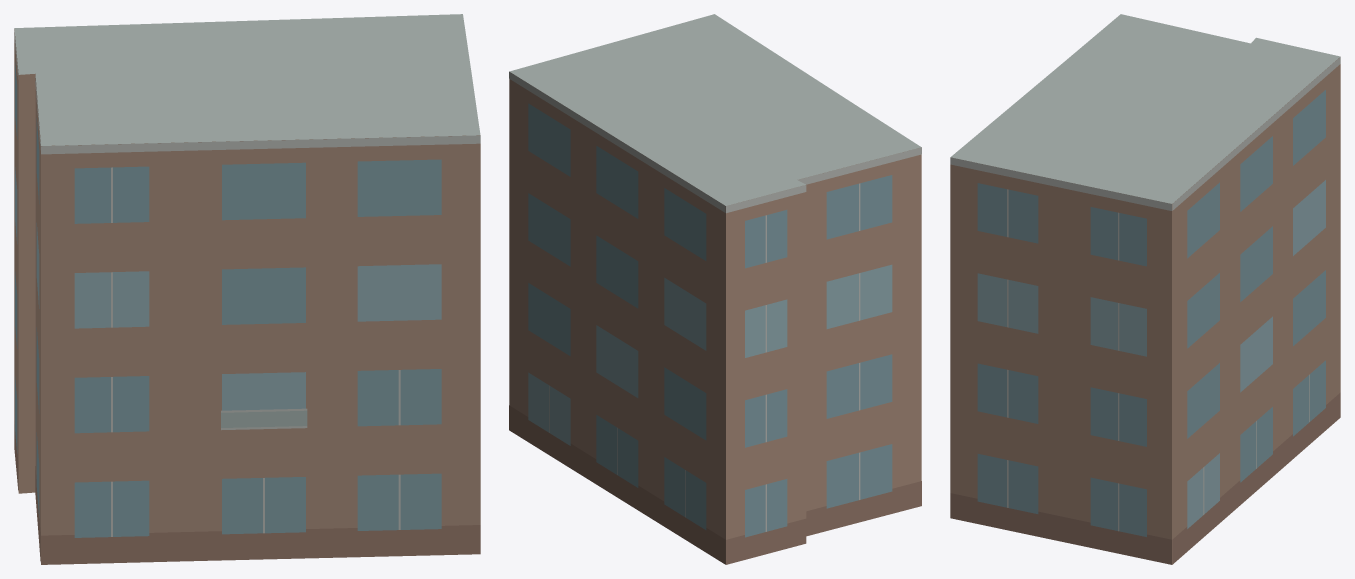
The model's file is survey-upis-32910363.glb.
The picture shows the model from 3 angles, left to right: view 1: azimuth 30°, elevation 25°; view 2: azimuth 150°, elevation 25°; view 3: azimuth 270°, elevation 25°; orthographic projection. The views are drawn at different scales.
Visible parts, largest first — view 1: survey-upis-32910363.tmp; view 2: survey-upis-32910363.tmp; view 3: survey-upis-32910363.tmp.
Part boxes in pixels (box(x1,y1,x2,y2)): survey-upis-32910363.tmp: box(14, 14, 480, 564); survey-upis-32910363.tmp: box(509, 14, 921, 564); survey-upis-32910363.tmp: box(950, 14, 1340, 564).
Size of the model in its own units: 13.78 by 12.2 by 11.97.
